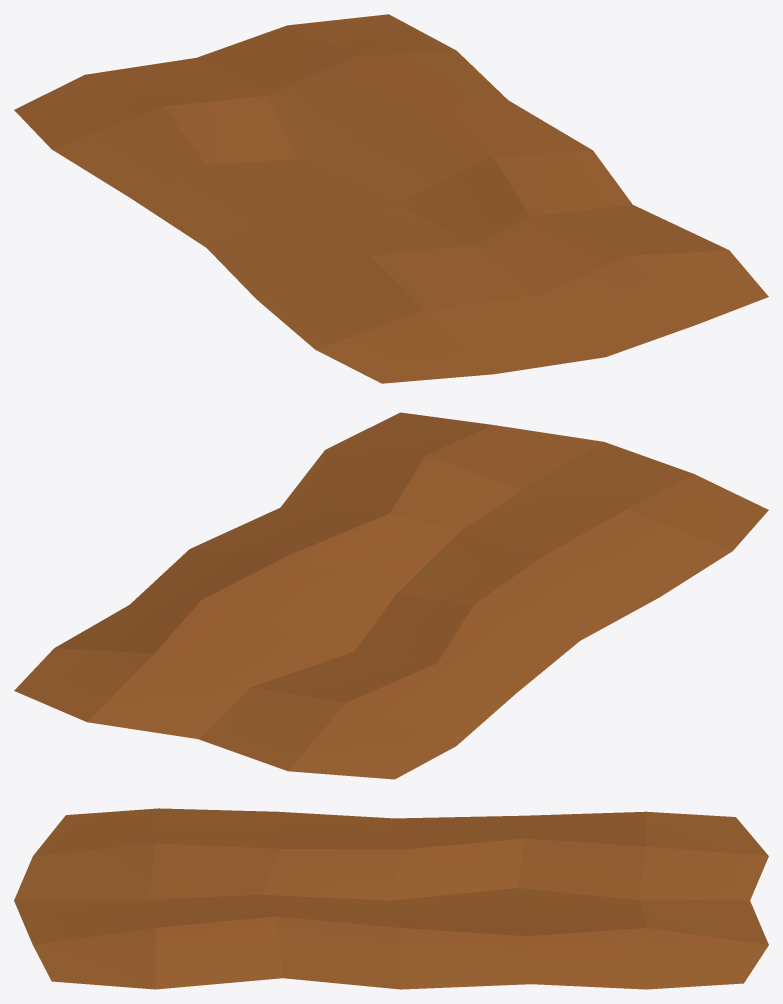
Rendered from cGround_C_7__.glb.
3 renders of one model, top to bottom at view 1: azimuth 30°, elevation 25°; view 2: azimuth 150°, elevation 25°; view 3: azimuth 270°, elevation 25°, orthographic. The views are drawn at different scales.
Visible parts, largest first — view 1: cGround_C_7; view 2: cGround_C_7; view 3: cGround_C_7.
Part boxes in pixels (bbox=[...]): cGround_C_7: bbox=[14, 14, 768, 383]; cGround_C_7: bbox=[14, 412, 768, 779]; cGround_C_7: bbox=[14, 808, 768, 989].
Size of the model in its own units: 9.31 by 0.4201 by 16.41.
Materials: 1 (1 with a texture image).
